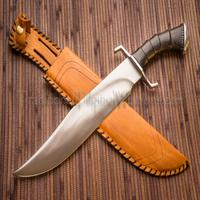knife: (10, 19, 190, 182)
